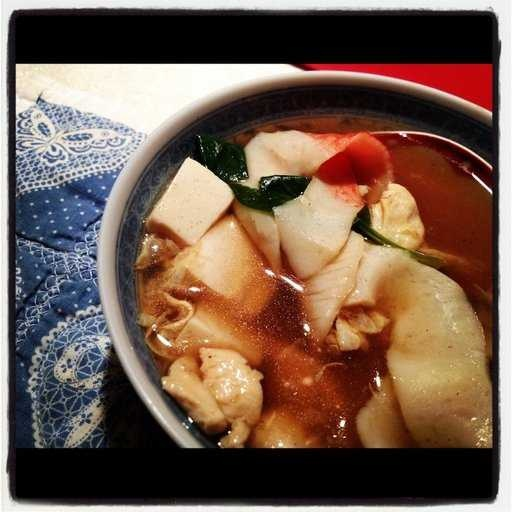soup: (115, 101, 496, 452)
